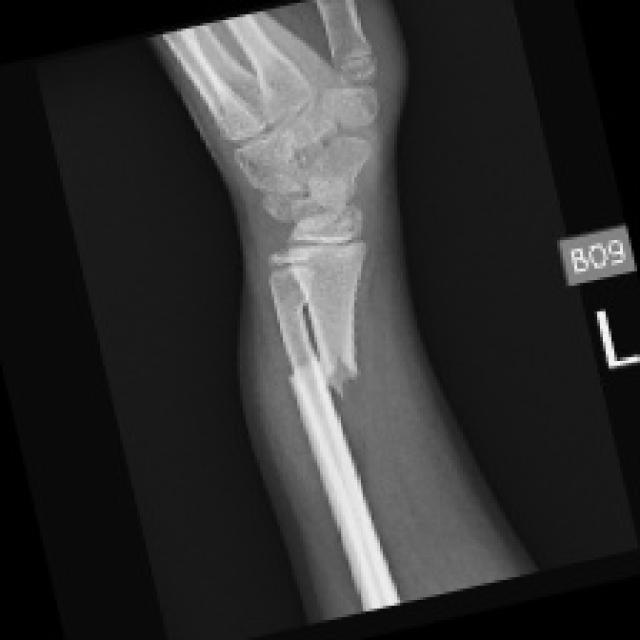fracture: (296, 340, 381, 419)
